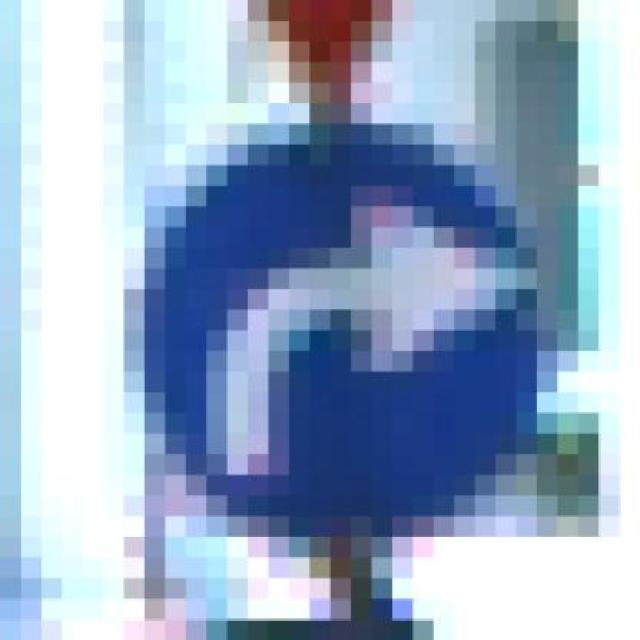Turn right ahead: (82, 82, 578, 578)
